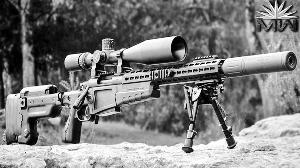sniper: (4, 33, 296, 143)
